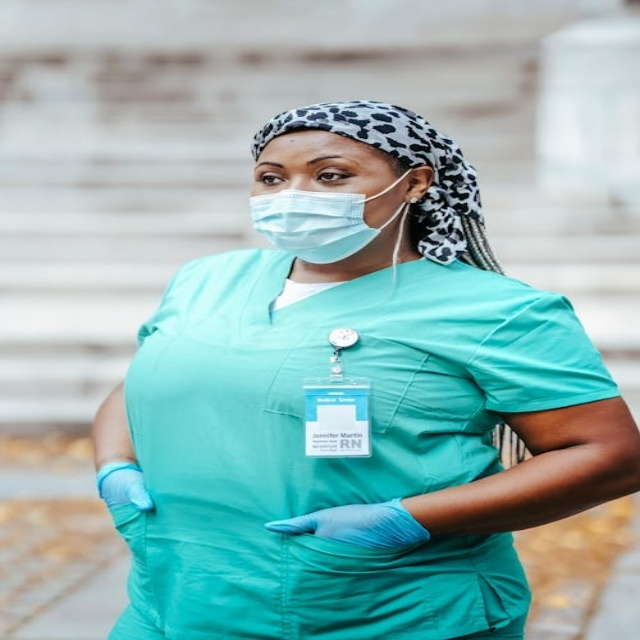Guantes: (267, 498, 429, 550), (96, 461, 155, 513)
Mascara: (250, 168, 407, 262)
Sin_gafas: (250, 156, 378, 188)
